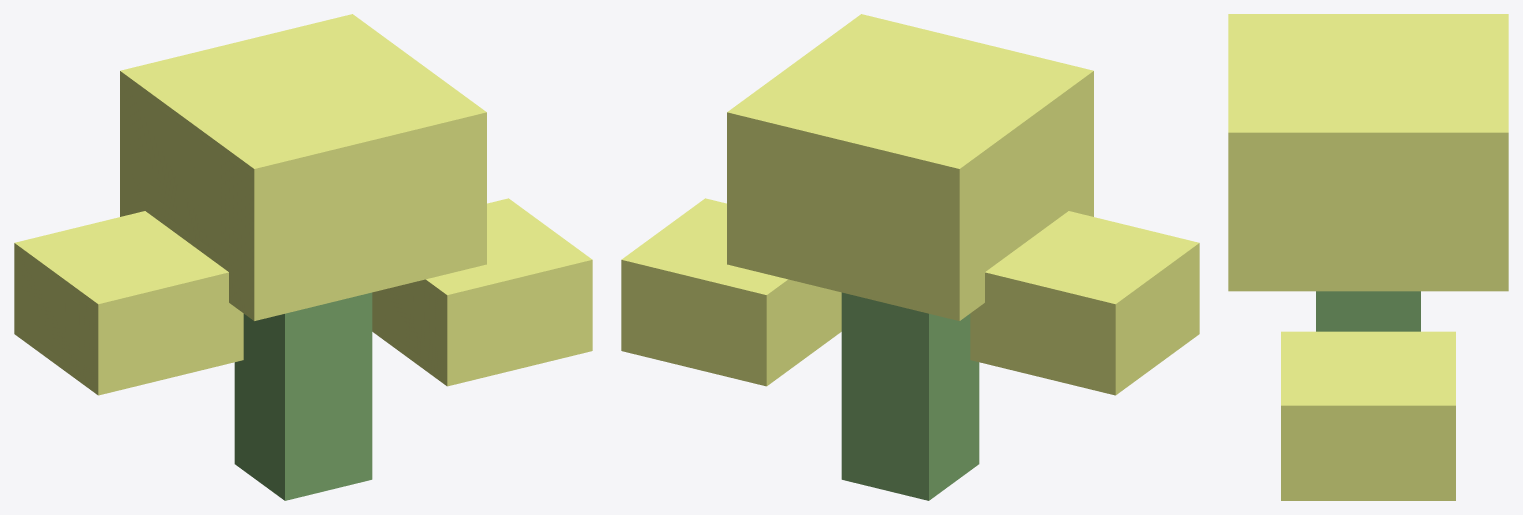
The model's file is Prop_DS_Herb_ParityPetal_S1_V1.glb.
3 views of the same model, side by side, from view 1: azimuth 30°, elevation 25°; view 2: azimuth 150°, elevation 25°; view 3: azimuth 270°, elevation 25° (orthographic). The views are drawn at different scales.
Parts seen in each view (by area): view 1: Cube.003, Cube.002, Cube.001, Cube; view 2: Cube.003, Cube.002, Cube.001, Cube; view 3: Cube.003, Cube.001, Cube.
Boxes of the visible parts, x1,y1,x2,y2 form: Cube.003: [120, 14, 486, 320]; Cube.002: [14, 211, 243, 395]; Cube.001: [372, 198, 592, 386]; Cube: [234, 292, 372, 500]; Cube.003: [727, 14, 1093, 320]; Cube.002: [970, 211, 1199, 395]; Cube.001: [621, 198, 841, 386]; Cube: [841, 292, 979, 500]; Cube.003: [1228, 14, 1508, 291]; Cube.001: [1281, 331, 1455, 500]; Cube: [1316, 291, 1420, 331].
Bounding box in the file's own units: 0.34 × 0.25 × 0.16.
